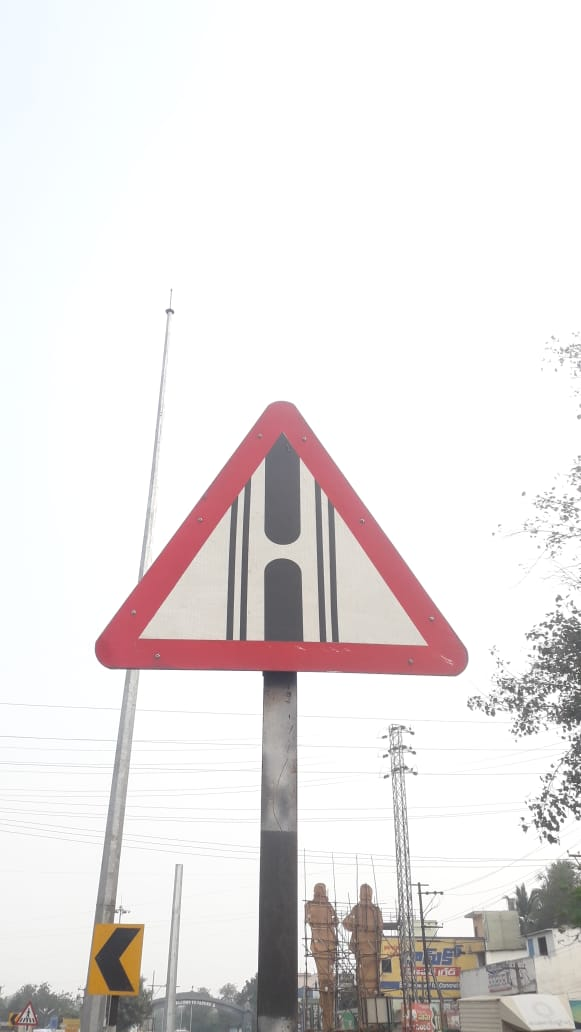highway go straight: (110, 384, 466, 694)
